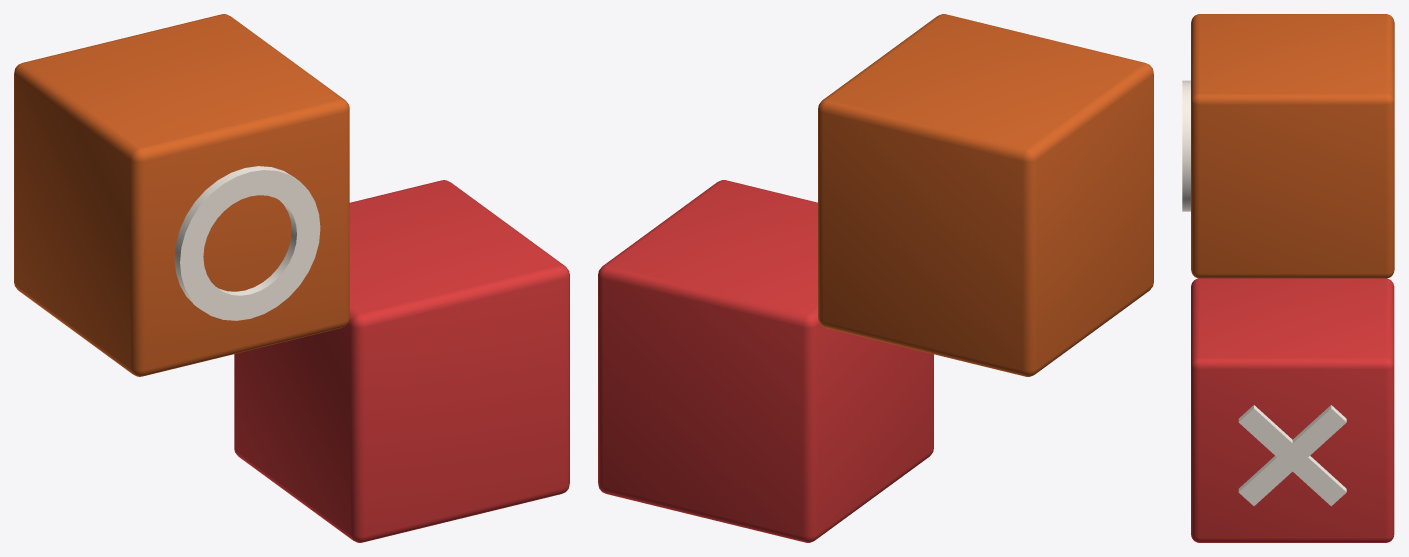
Rendered from Play Icons B.fbx.
3 renders of one model, left to right at view 1: azimuth 30°, elevation 25°; view 2: azimuth 150°, elevation 25°; view 3: azimuth 270°, elevation 25°, orthographic. The views are drawn at different scales.
Visible parts, largest first — view 1: Cube_3_5, Cube_4_3, Tube_4; view 2: Cube_3_5, Cube_4_3; view 3: Cube_3_5, Cube_4_3, Cube_8_2, Cube_3_6, Tube_4.
Part boxes in pixels (left/top/right/bottom): Cube_3_5: left=14, top=14, right=349, bottom=376; Cube_4_3: left=234, top=180, right=569, bottom=542; Tube_4: left=174, top=166, right=320, bottom=320; Cube_3_5: left=818, top=14, right=1153, bottom=376; Cube_4_3: left=598, top=180, right=933, bottom=542; Cube_3_5: left=1191, top=14, right=1394, bottom=278; Cube_4_3: left=1191, top=278, right=1394, bottom=542; Cube_8_2: left=1238, top=405, right=1346, bottom=506; Cube_3_6: left=1238, top=405, right=1346, bottom=505; Tube_4: left=1182, top=80, right=1190, bottom=211.
Size of the model in its own units: 95.61 by 91.39 by 48.54.
